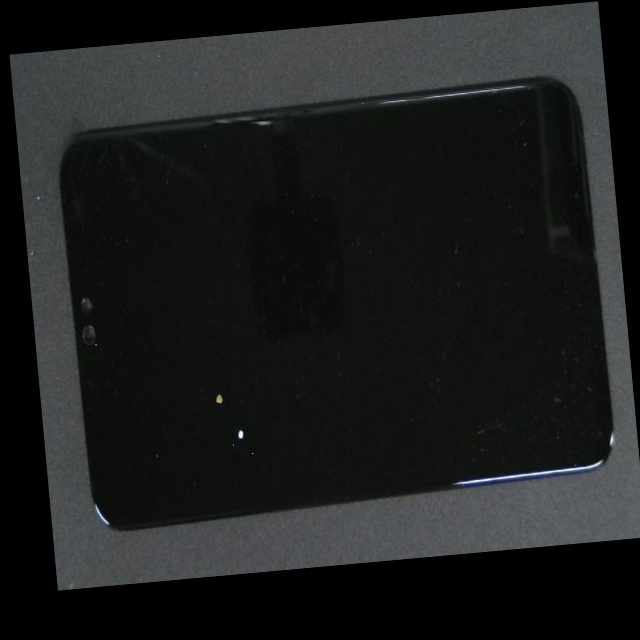stain: (120, 204, 340, 582), (103, 186, 305, 582)
